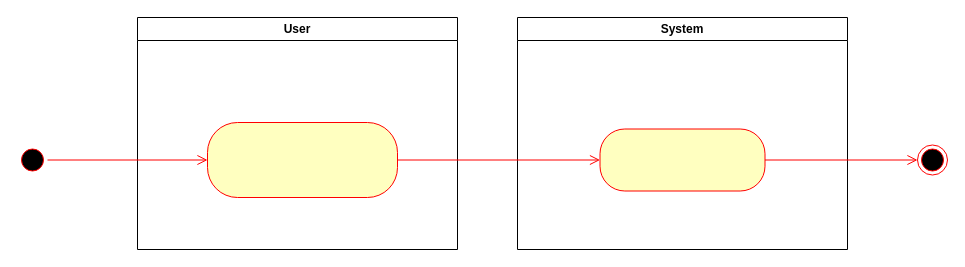
Some shapes in this 965 by 267 pixel diagram are drawn without their labels. Each missing label, with the centre of its shape:
(1) On " List Industry " Click item Industry: pixel 302 160
(2) Load " CRUD industry ": pixel 682 159
